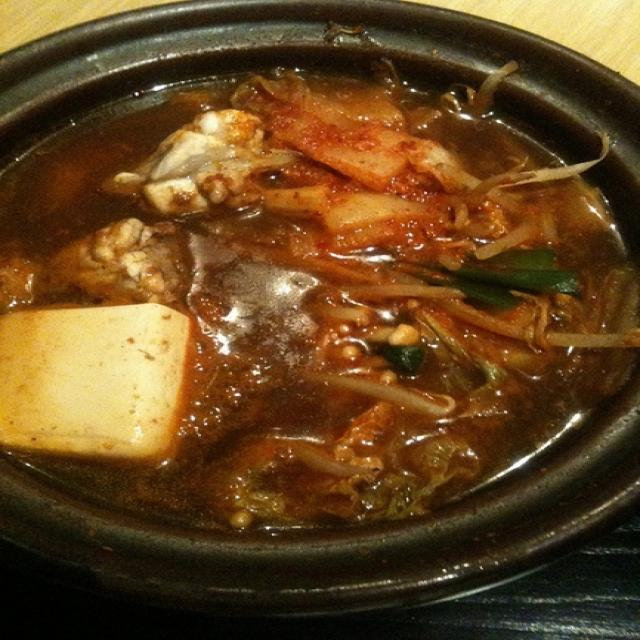汤锅炖物: (9, 13, 630, 616)
